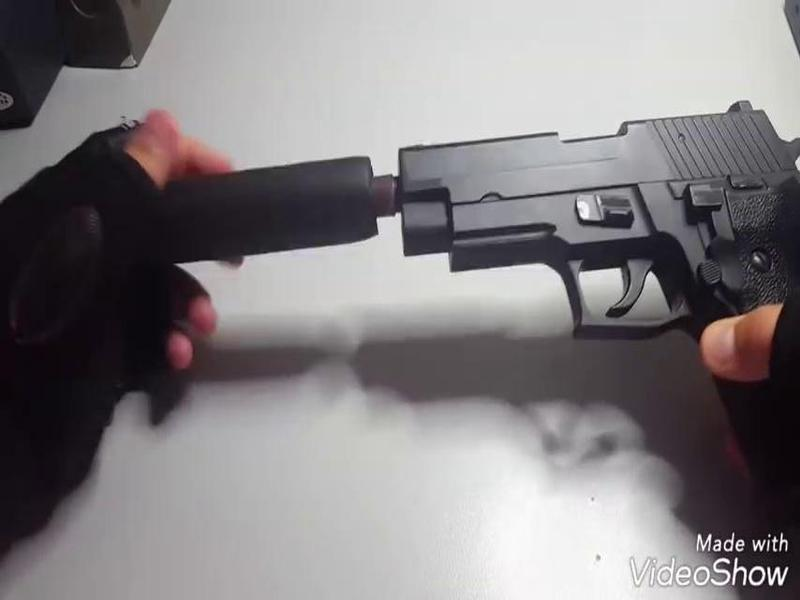Pistola: (389, 89, 800, 406)
